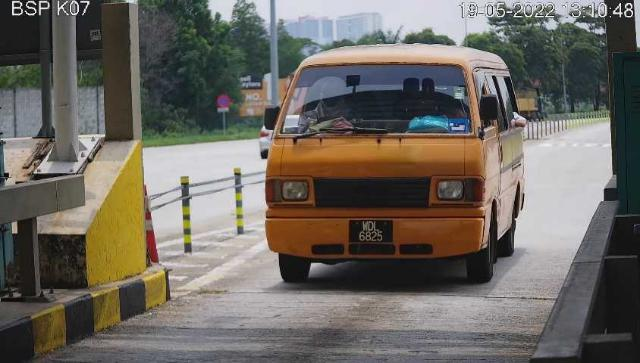License_Plate: (348, 219, 398, 248)
van: (266, 46, 525, 286)
